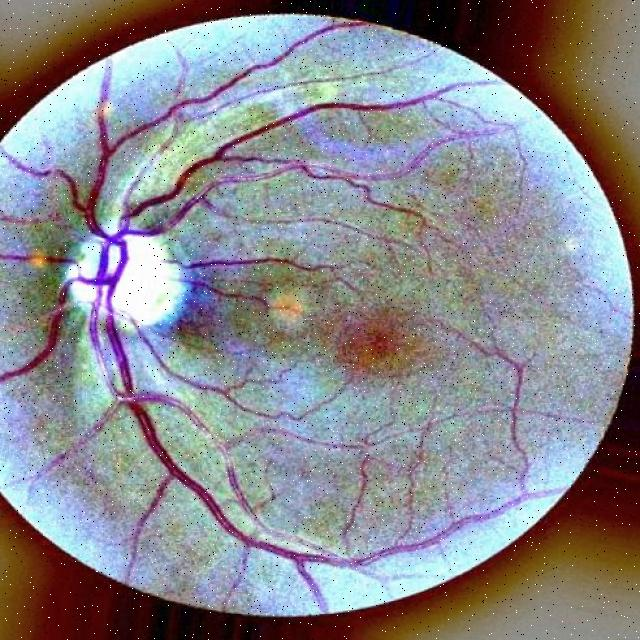Macula: (337, 310, 425, 375)
Nerves: (7, 222, 547, 617), (127, 76, 500, 220), (81, 25, 351, 223), (0, 266, 88, 395), (1, 148, 91, 238)
Optic Disk: (112, 234, 190, 327), (68, 238, 101, 302)
